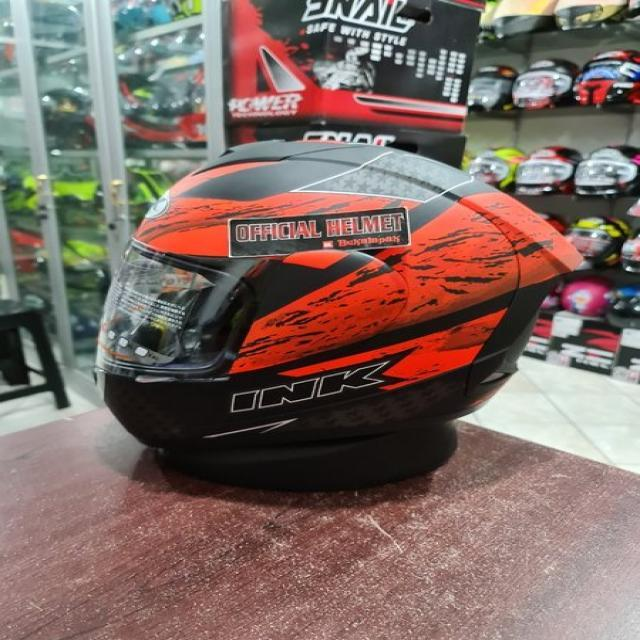Helm: (97, 132, 587, 455)
